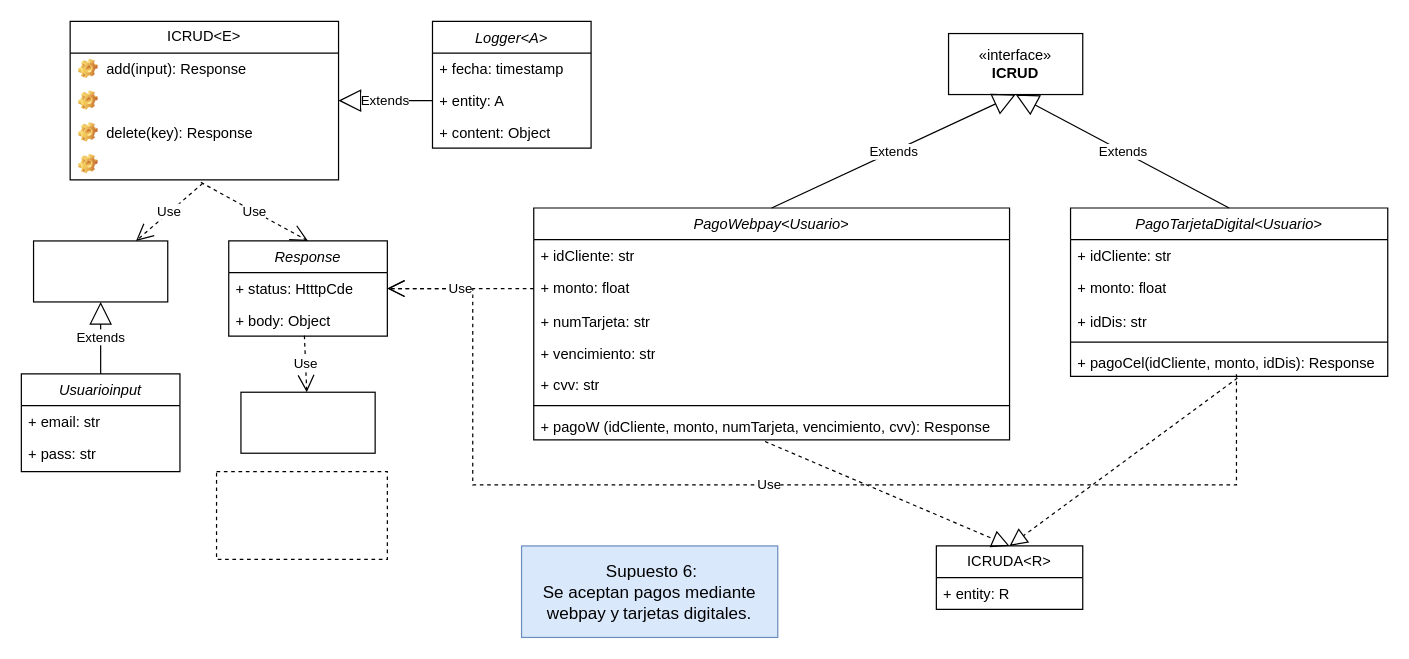
Some shapes in this 1409 by 659 pixel diagram are drawn without their labels. The box of each missing label's shape, as (x1, y1, x2, y2) in pixels:
200: OK 400: Not Allowed 404: Not Found: (215, 470, 387, 559)
HttpCode: (240, 391, 375, 453)
query(key): Response: (70, 148, 338, 179)
update(key, input): Response: (70, 84, 338, 116)
«interface» input: (32, 240, 168, 302)
